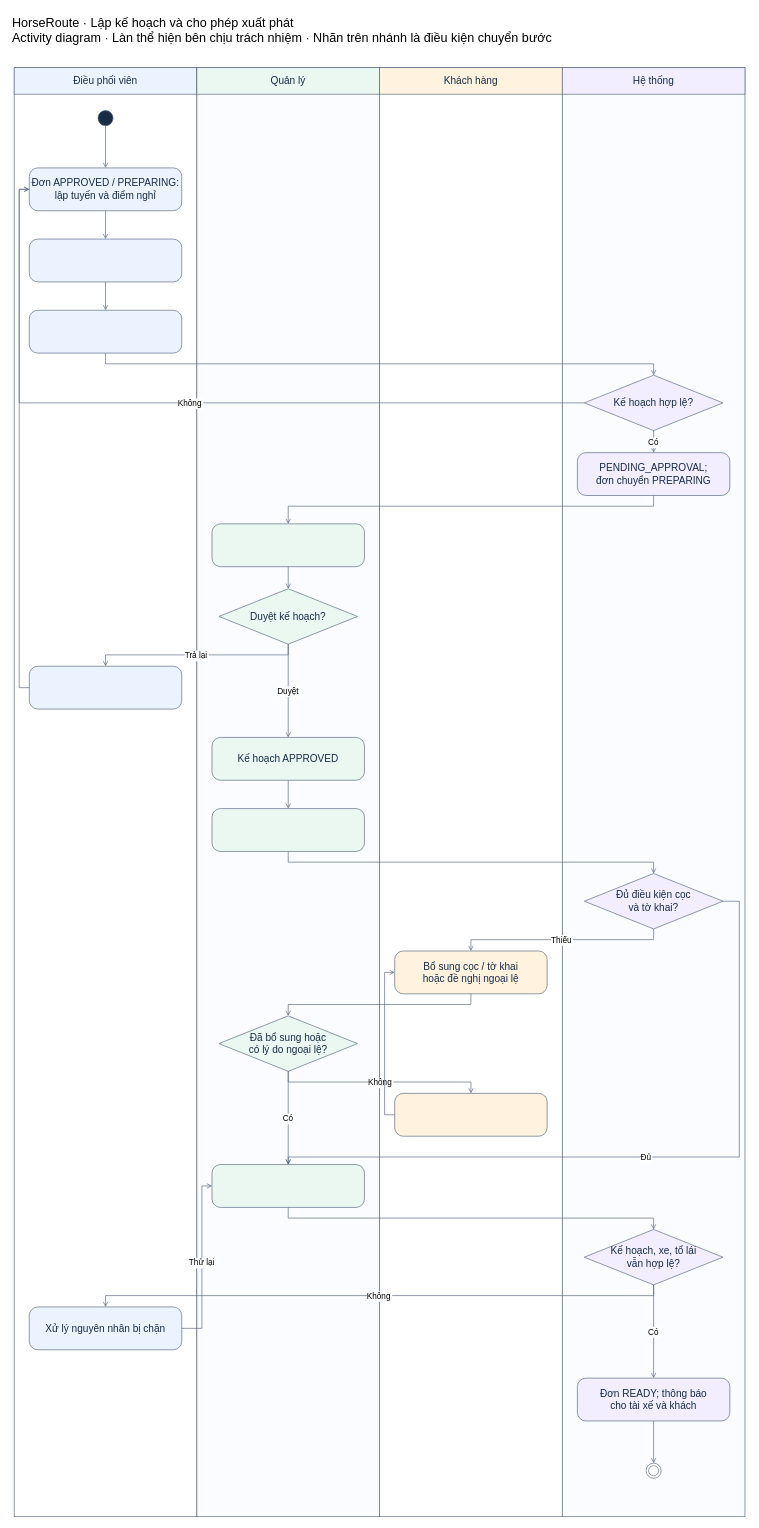
Image size: 759x1528. Some labels were removed from this diagram. The centre of each missing label's shape, as x and y in pixels:
Bố trí ngựa lên xe; phân công tài xế / hộ tống: (105,260)
Chờ bổ sung / xử lý: (470,1114)
Kiểm tra cọc và tờ khai (quốc tế) trước khi giao chuyến: (287,829)
Lưu và gửi kế hoạch: (105,331)
Nhận lý do trả lại; sửa kế hoạch DRAFT: (105,687)
Xét duyệt kế hoạch: (287,545)
Yêu cầu chuyển chuyến cho tài xế: (287,1185)
